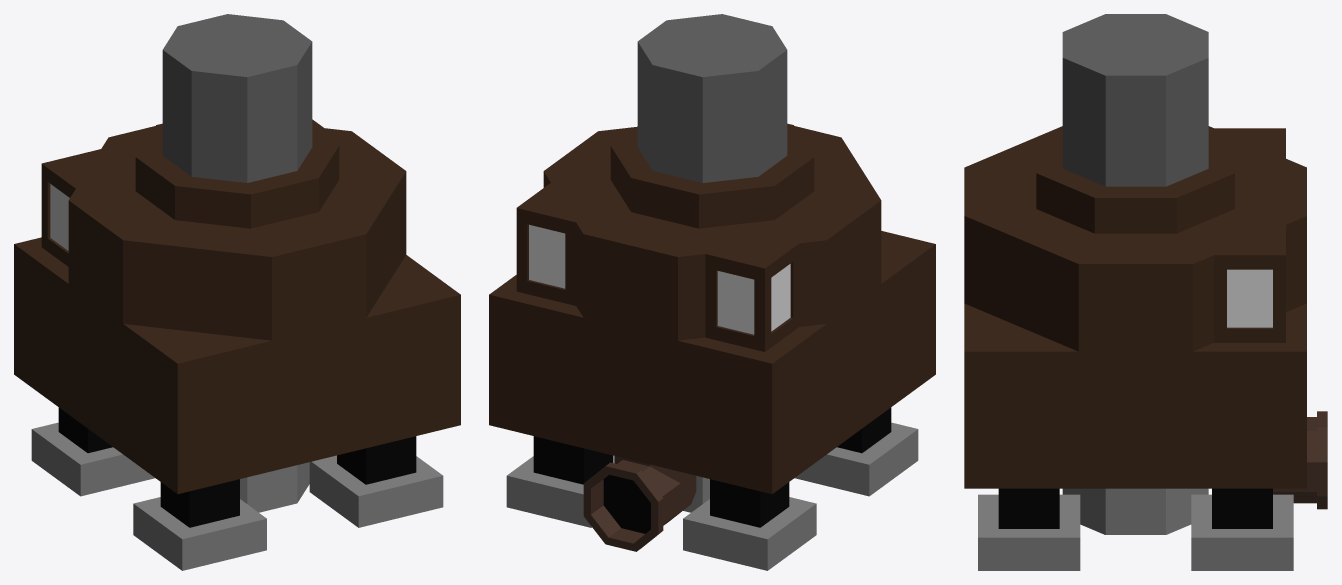
File: PowerRig.fbx
3 views of the same model, side by side, from view 1: azimuth 30°, elevation 25°; view 2: azimuth 150°, elevation 25°; view 3: azimuth 270°, elevation 25° (orthographic). The views are drawn at different scales.
Visible parts, largest first — view 1: Cube.019, Cube.015, Cube.017; view 2: Cube.019, Cube.015, Cylinder.024, Cube.017; view 3: Cube.019, Cube.015, Cube.017, Cylinder.024.
Part boxes in pixels (box(x1,y1,x2,y2)): Cube.019: box(14, 119, 460, 570); Cube.015: box(162, 14, 312, 182); Cube.017: box(50, 184, 69, 250); Cube.019: box(489, 123, 935, 570); Cube.015: box(637, 14, 787, 182); Cylinder.024: box(583, 456, 696, 551); Cube.017: box(529, 224, 790, 334); Cube.019: box(964, 126, 1306, 570); Cube.015: box(1062, 14, 1208, 186); Cube.017: box(1227, 269, 1272, 327); Cylinder.024: box(1273, 411, 1327, 509).
Size of the model in its own units: 139 by 206 by 147.
